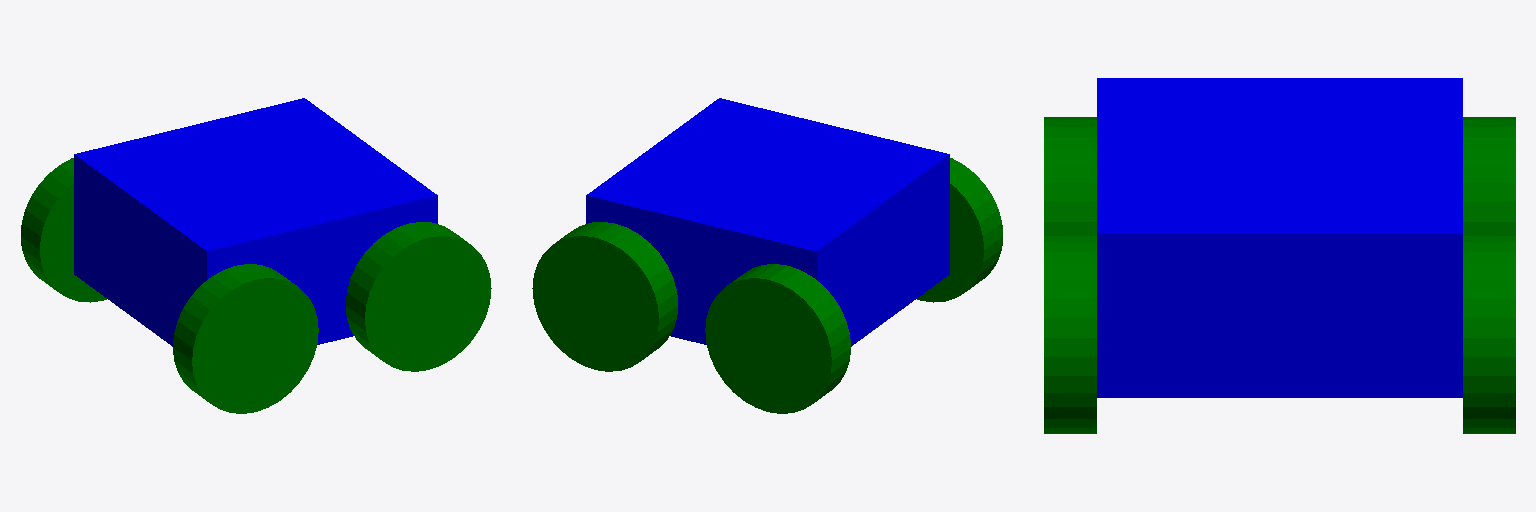
The robot description file, URDF, robot "gary":
<?xml version="1.0"?>
<robot name="gary">
  <material name="green">
    <color rgba="0 0.5 0 1"/>
  </material>
  <material name="blue">
    <color rgba="0 0 1.0 1"/>
  </material>

  <link name="base_link">
    <visual>
      <geometry>
        <box size="0.4 0.4 0.2"/>
      </geometry>
      <origin xyz="0 0 0.1" rpy="0 0 0"/>
      <material name="blue" />
    </visual>
  </link>


  <link name="right_front_wheel">
    <visual>
      <geometry>
        <cylinder radius="0.11" length="0.058"/>
      </geometry>
      <origin xyz="0 0 0" rpy="0 0 0"/>
      <material name="green" />
    </visual>
  </link>

  <link name="right_rear_wheel">
    <visual>
      <geometry>
        <cylinder radius="0.11" length="0.058"/>
      </geometry>
      <origin xyz="0 0 0" rpy="0 0 0"/>
      <material name="green" />
    </visual>
  </link>


  <link name="left_front_wheel">
    <visual>
      <geometry>
         <cylinder radius="0.11" length="0.058"/>
      </geometry>
      <origin xyz="0 0 0" rpy="0 0 0"/>
      <material name="green" />
    </visual>
  </link>


  <link name="left_rear_wheel">
    <visual>
      <geometry>
        <cylinder radius="0.11" length="0.058"/>
      </geometry>
      <origin xyz="0 0 0" rpy="0 0 0"/>
      <material name="green" />
    </visual>
  </link>

  <!--  joints-->

  <joint name="base_rf_wheel_joint" type="fixed">
    <parent link="base_link" />
    <child link="right_front_wheel" />
    <origin xyz="0.15 -0.229 0.055" rpy="1.5708 0.0 0.0" />
  </joint>

  <joint name="base_rr_wheel_joint" type="fixed">
    <parent link="base_link" />
    <child link="right_rear_wheel" />
    <origin xyz="-0.15 -0.229 0.055" rpy="1.5708 0.0 0.0" />
  </joint>

  <joint name="base_lf_wheel_joint" type="fixed">
    <parent link="base_link" />
    <child link="left_front_wheel" />
    <origin xyz="0.15 0.229 0.055" rpy="1.5708 0.0 0.0" />
  </joint>

  <joint name="base_lr_wheel_joint" type="fixed">
    <parent link="base_link" />
    <child link="left_rear_wheel" />
    <origin xyz="-0.15 0.229 0.055" rpy="1.5708 0.0 0.0" />
  </joint>


</robot>

--- Render facts (derived) ---
The picture shows the robot from 3 angles, left to right: view 1: azimuth 30°, elevation 25°; view 2: azimuth 150°, elevation 25°; view 3: azimuth 270°, elevation 25°; orthographic projection.
Robot: gary — 5 links, 4 joints (4 fixed); root link base_link; default pose: every joint at zero.
Links seen in each view (by area): view 1: base_link, right_rear_wheel, right_front_wheel, left_rear_wheel; view 2: base_link, left_rear_wheel, left_front_wheel, right_rear_wheel; view 3: base_link, right_front_wheel, left_front_wheel, right_rear_wheel, left_rear_wheel.
Boxes of the visible links, <box> form: base_link: <box>74,98,437,346</box>; right_rear_wheel: <box>173,264,318,413</box>; right_front_wheel: <box>346,222,491,371</box>; left_rear_wheel: <box>21,158,106,302</box>; base_link: <box>586,98,949,346</box>; left_rear_wheel: <box>705,264,850,413</box>; left_front_wheel: <box>532,222,677,371</box>; right_rear_wheel: <box>917,158,1002,302</box>; base_link: <box>1097,78,1462,397</box>; right_front_wheel: <box>1044,233,1096,433</box>; left_front_wheel: <box>1463,233,1515,433</box>; right_rear_wheel: <box>1044,117,1096,232</box>; left_rear_wheel: <box>1463,117,1515,232</box>.
Bounding box of the posed robot: 0.52 × 0.516 × 0.255 m (x, y, z).
Geometry: primitives only (box / cylinder / sphere), no mesh files.
